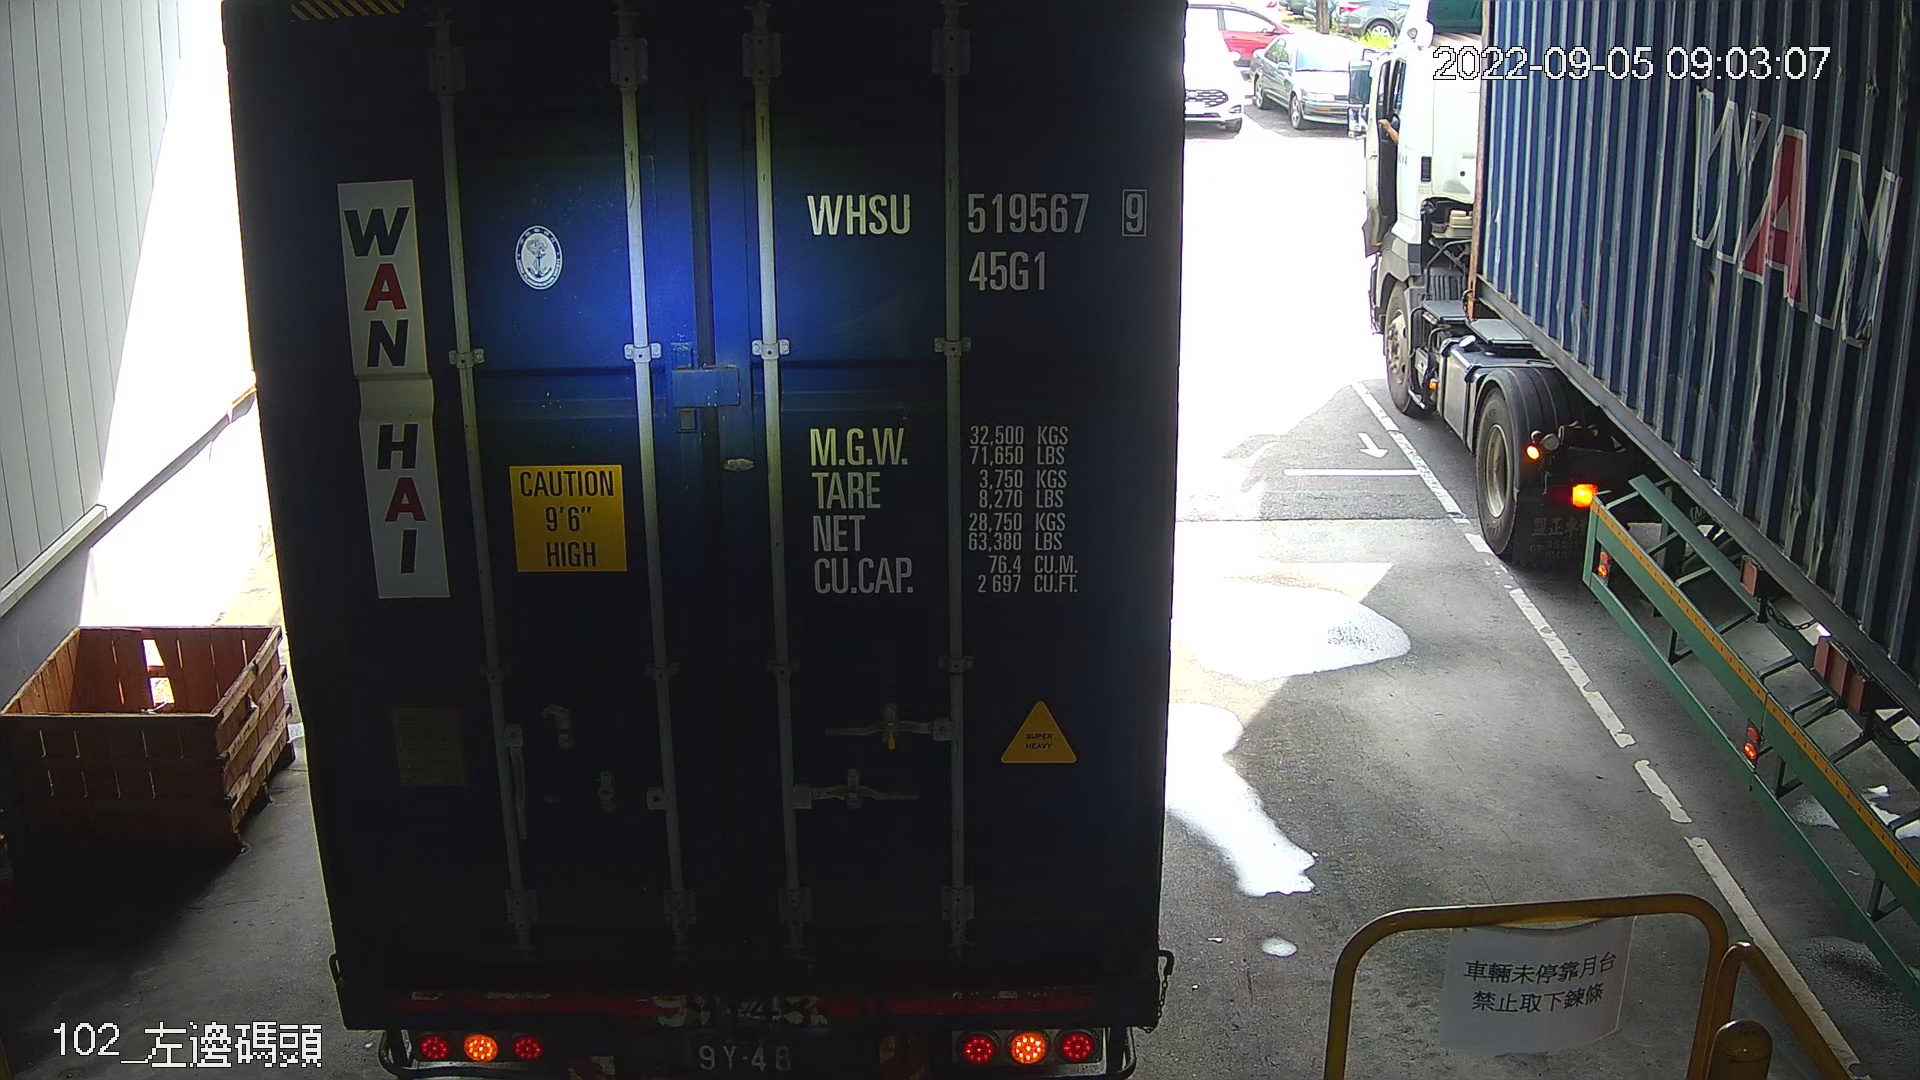container: (796, 171, 1159, 310)
